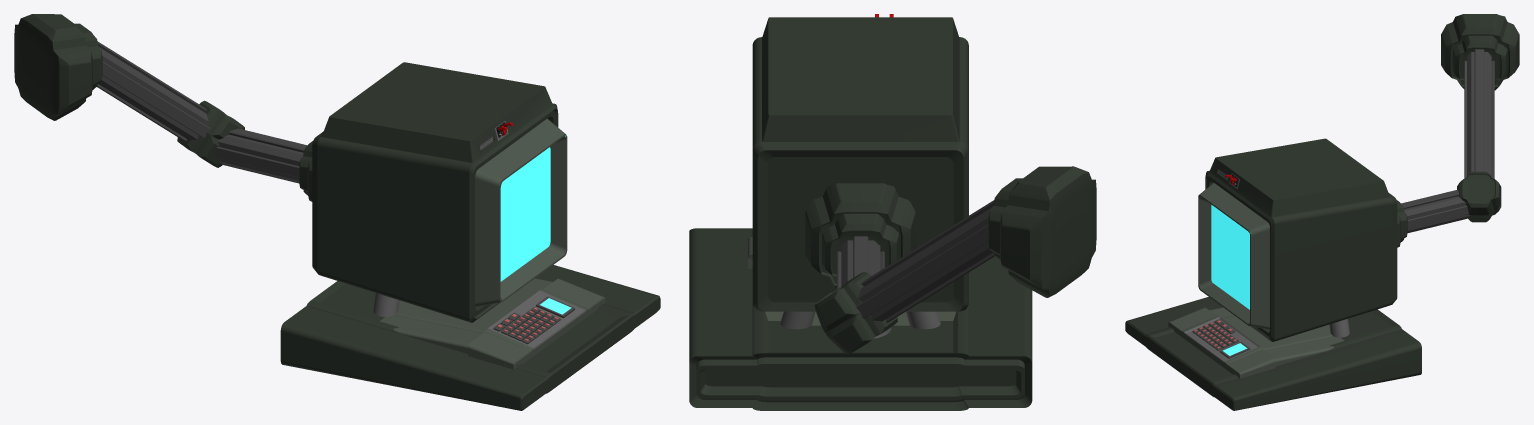
Rendered from sci-fi_terminal.glb.
3 views of the same model, side by side, from view 1: azimuth 30°, elevation 25°; view 2: azimuth 150°, elevation 25°; view 3: azimuth 270°, elevation 25° (orthographic). The views are drawn at different scales.
Parts seen in each view (by area): view 1: polySurface13, polySurface31, polySurface51, polySurface49, polySurface48, polySurface45, polySurface91, polySurface47, polySurface46, polySurface50; view 2: polySurface13, polySurface31, polySurface49, polySurface48, polySurface43, polySurface44, polySurface45, polySurface47, polySurface46, polySurface50, polySurface51, polySurface34 (+1 smaller); view 3: polySurface13, polySurface31, polySurface51, polySurface48, polySurface49, polySurface45, polySurface47, polySurface50, polySurface91.
Boxes of the visible parts, x1,y1,x2,y2 form: polySurface13: (312,62,567,322); polySurface31: (280,265,660,410); polySurface51: (380,278,605,369); polySurface49: (14,14,92,120); polySurface48: (97,41,210,141); polySurface45: (214,128,307,183); polySurface91: (501,307,560,344); polySurface47: (199,100,244,139); polySurface46: (177,132,222,167); polySurface50: (74,23,102,90); polySurface13: (752,17,968,311); polySurface31: (689,228,1032,410); polySurface49: (1000,166,1096,297); polySurface48: (856,200,994,322); polySurface43: (805,183,916,287); polySurface44: (822,213,899,276); polySurface45: (837,236,884,288); polySurface47: (814,272,870,332); polySurface46: (826,312,897,354); polySurface50: (988,178,1022,260); polySurface51: (748,237,968,325); polySurface34: (905,311,940,329); polySurface13: (1198,138,1397,341); polySurface31: (1125,297,1421,410); polySurface51: (1168,307,1344,378); polySurface48: (1464,49,1494,178); polySurface49: (1441,14,1519,90); polySurface45: (1401,189,1471,233); polySurface47: (1457,171,1501,215); polySurface50: (1452,35,1507,83); polySurface91: (1192,322,1238,350).
Size of the model in its own units: 1.83 by 1.13 by 1.71.
